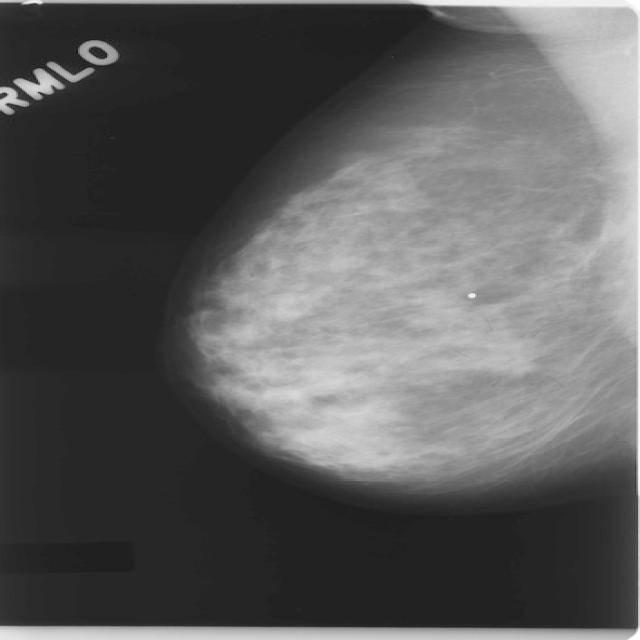tumour: (466, 330, 531, 374)
